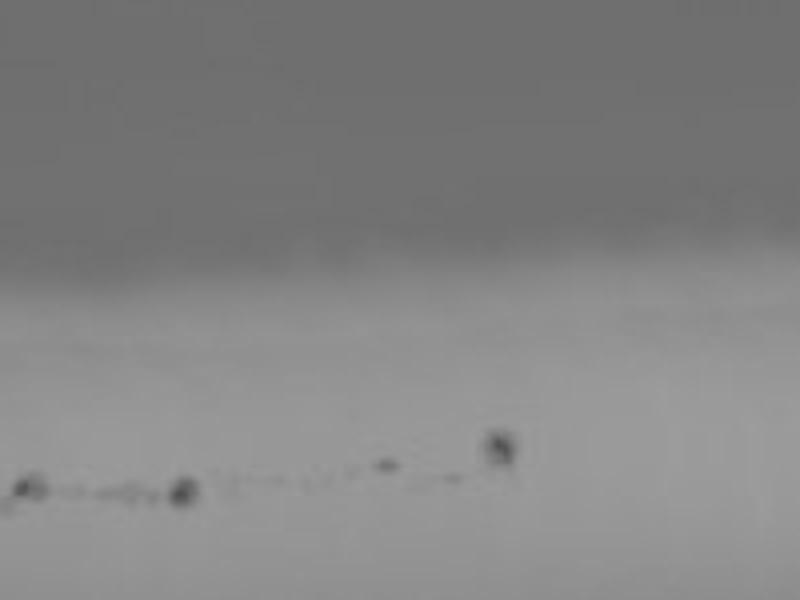defect: (478, 431, 518, 468), (94, 480, 146, 507), (12, 470, 50, 500), (172, 478, 202, 510), (139, 485, 160, 506), (374, 457, 396, 477), (444, 469, 469, 482)
